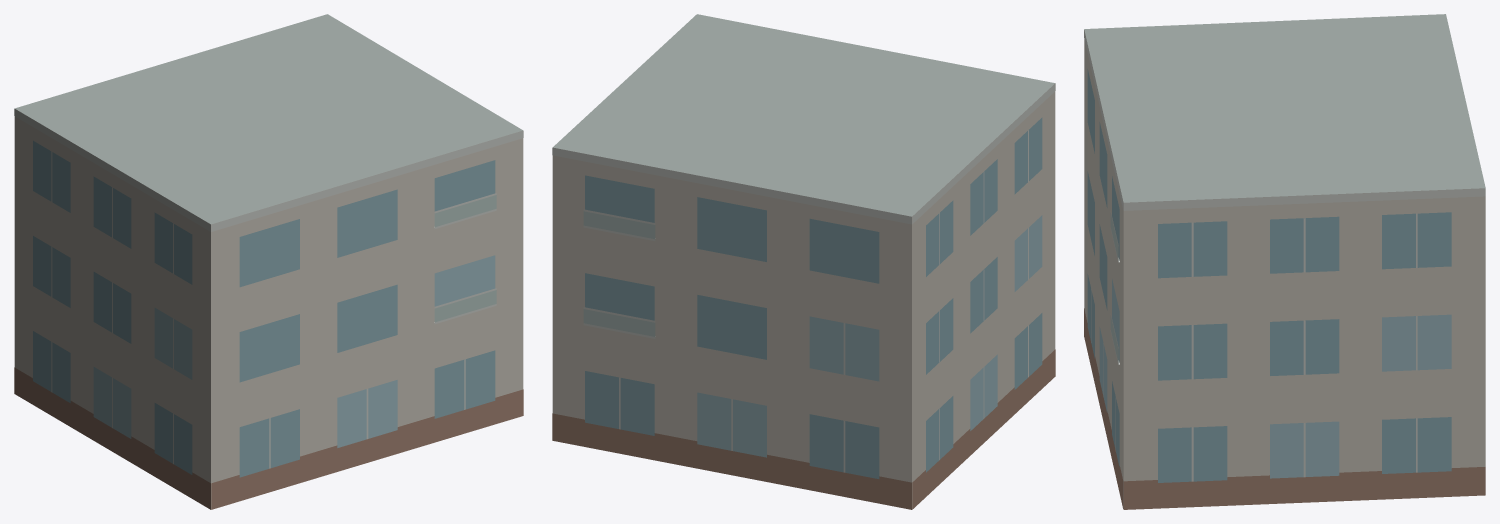
The model's file is survey-upis-32917465.glb.
3 views of the same model, side by side, from view 1: azimuth 30°, elevation 25°; view 2: azimuth 150°, elevation 25°; view 3: azimuth 270°, elevation 25° (orthographic). The views are drawn at different scales.
Parts seen in each view (by area): view 1: survey-upis-32917465.tmp; view 2: survey-upis-32917465.tmp; view 3: survey-upis-32917465.tmp.
Part boxes in pixels (x1,y1,x2,y2): survey-upis-32917465.tmp: [14, 14, 523, 509]; survey-upis-32917465.tmp: [552, 14, 1055, 509]; survey-upis-32917465.tmp: [1084, 14, 1485, 509].
Size of the model in its own units: 12.06 by 9.15 by 10.85.
